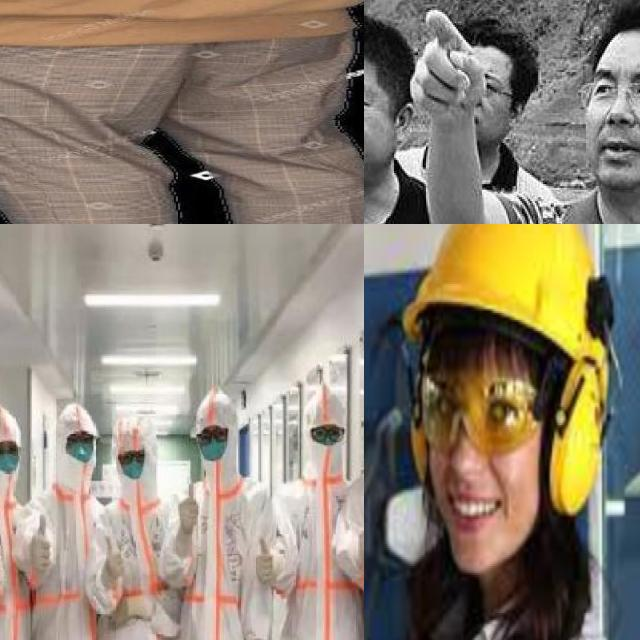Ear-protection: (401, 224, 614, 569)
No_Ear-Protection: (393, 99, 416, 151)
face_mask: (195, 418, 237, 458), (61, 426, 97, 468), (116, 444, 150, 484), (0, 440, 22, 476)
face_nomask: (575, 73, 640, 169), (364, 82, 380, 167)
glasses: (575, 77, 640, 115), (195, 426, 232, 448), (308, 425, 350, 443), (118, 448, 147, 466)
hand_glove: (31, 513, 54, 575), (100, 534, 128, 584), (255, 533, 277, 591), (180, 481, 201, 536), (353, 512, 364, 565)
hand_noglove: (405, 3, 491, 137)
head_nohelmet: (583, 0, 640, 70), (364, 12, 402, 78)
person: (0, 0, 364, 224), (471, 0, 640, 224), (173, 385, 274, 640), (284, 390, 364, 640), (99, 416, 184, 640), (34, 397, 107, 640), (364, 0, 431, 224), (0, 391, 45, 640)
